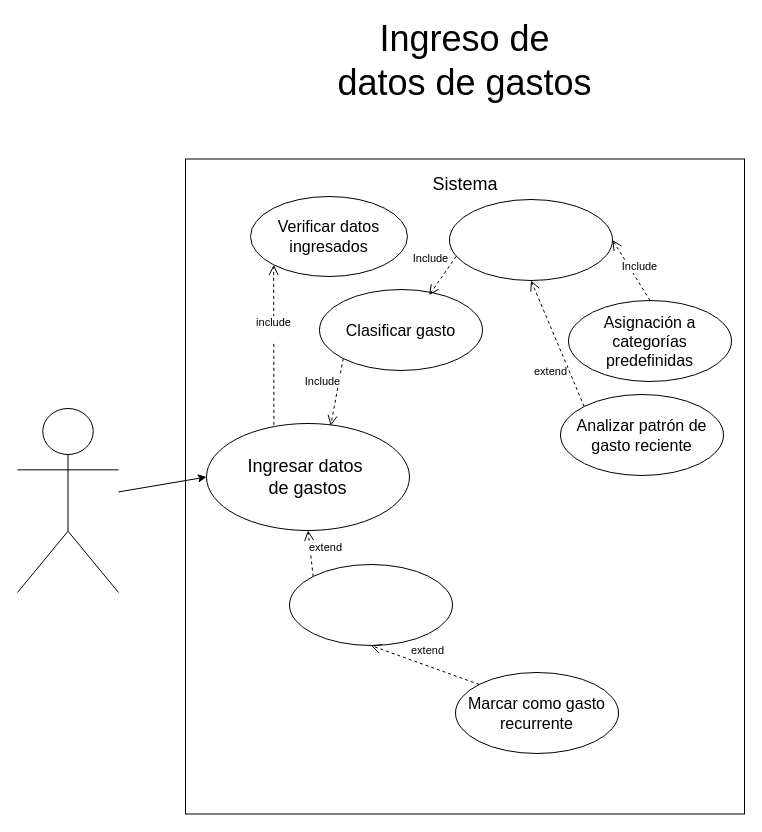
This 762x832 diagram has some shape labels left out. Here are the shapes that lost their labels. From the top down, the box of each, then its label:
(448, 198, 612, 280): Reconocimiento de patrones
(16, 408, 118, 592): Usuario
(288, 564, 452, 646): Notificar Gasto Acumulativo
